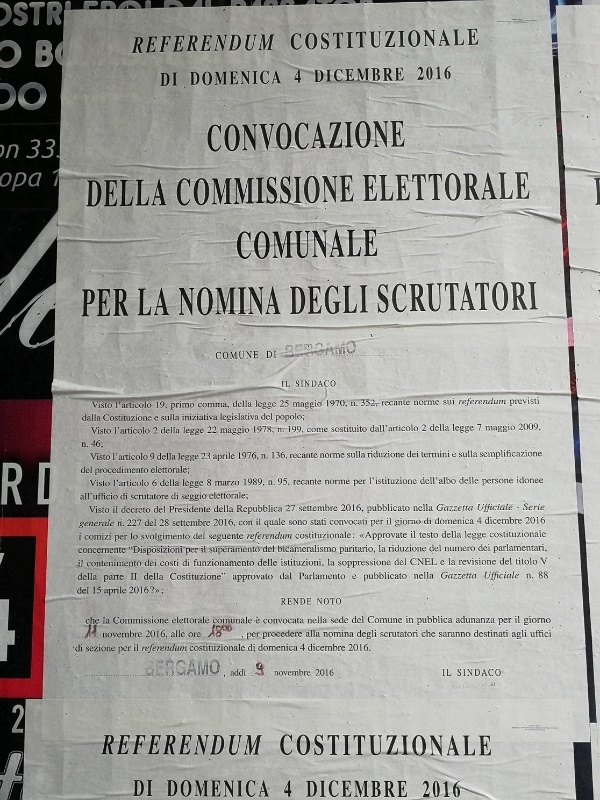text: (1, 1, 16, 116), (1, 595, 16, 672), (1, 752, 16, 800), (17, 1, 23, 116), (33, 78, 49, 117), (4, 461, 16, 511), (209, 117, 224, 156), (225, 117, 240, 156), (241, 117, 256, 156), (257, 117, 272, 156), (273, 117, 288, 156), (289, 117, 304, 156), (305, 117, 320, 156), (321, 117, 336, 156), (337, 117, 352, 156), (353, 117, 368, 156), (369, 117, 384, 156), (385, 117, 400, 156), (385, 278, 400, 317), (401, 278, 416, 317), (417, 278, 432, 317), (433, 278, 448, 317), (449, 278, 464, 317), (465, 278, 480, 317), (481, 278, 496, 317), (497, 278, 512, 317), (513, 278, 528, 317), (353, 283, 369, 319), (177, 172, 192, 210), (193, 172, 208, 210), (209, 172, 224, 210), (225, 172, 240, 210), (241, 172, 256, 210), (257, 172, 272, 210), (273, 172, 288, 210), (289, 172, 304, 210), (305, 172, 320, 210), (321, 172, 336, 210), (337, 172, 352, 210), (18, 78, 32, 117), (369, 170, 384, 206), (385, 170, 400, 206), (401, 170, 416, 206), (417, 170, 432, 206), (433, 170, 448, 206), (449, 170, 464, 206), (465, 170, 480, 206), (481, 170, 496, 206), (497, 170, 512, 206), (513, 170, 528, 206), (97, 286, 112, 322), (113, 286, 128, 322), (145, 284, 160, 320), (193, 284, 208, 320), (209, 284, 224, 320), (225, 284, 240, 320), (241, 284, 256, 320), (257, 284, 272, 320), (289, 283, 304, 319), (305, 283, 320, 319), (321, 283, 336, 319), (337, 283, 352, 319), (97, 177, 112, 211), (113, 177, 128, 211), (129, 177, 144, 211), (145, 177, 160, 211), (82, 286, 96, 322), (178, 284, 192, 320), (35, 37, 48, 74), (465, 25, 481, 54), (241, 229, 256, 259), (257, 229, 272, 259), (273, 229, 288, 259), (289, 229, 304, 259), (305, 229, 320, 259), (321, 229, 336, 259), (337, 229, 352, 259), (353, 229, 368, 259), (17, 2, 32, 32), (33, 2, 48, 32), (305, 25, 320, 54), (321, 25, 336, 54), (337, 25, 352, 54), (353, 25, 368, 54), (369, 25, 384, 54), (385, 25, 400, 54), (401, 25, 416, 54), (417, 25, 432, 54), (433, 25, 448, 54), (449, 25, 464, 54), (145, 31, 160, 58), (161, 31, 176, 58), (177, 31, 192, 58), (193, 31, 208, 58), (209, 31, 224, 58), (225, 31, 240, 58), (241, 31, 256, 58), (257, 31, 272, 58), (33, 137, 48, 164), (17, 461, 25, 511), (40, 460, 48, 510), (49, 460, 57, 510), (529, 278, 539, 317), (49, 2, 62, 32), (291, 25, 304, 54), (289, 734, 304, 759), (305, 734, 320, 759), (321, 734, 336, 759), (337, 734, 352, 759), (353, 734, 368, 759), (369, 734, 384, 759), (385, 734, 400, 759), (401, 734, 416, 759), (417, 734, 432, 759), (433, 734, 448, 759), (449, 734, 464, 759), (465, 734, 480, 759), (161, 284, 171, 320), (273, 284, 283, 320), (113, 733, 128, 756), (129, 733, 144, 756), (145, 733, 160, 756), (161, 733, 176, 756), (177, 733, 192, 756), (193, 733, 208, 756), (209, 733, 224, 756), (225, 733, 240, 756), (241, 733, 256, 756), (17, 752, 24, 800), (1, 170, 16, 192), (17, 170, 32, 192), (289, 339, 304, 360), (305, 339, 320, 360), (321, 339, 336, 360), (337, 339, 352, 360), (17, 595, 21, 672), (87, 177, 96, 211), (321, 66, 336, 86), (337, 66, 352, 86), (353, 66, 368, 86), (369, 66, 384, 86), (385, 66, 400, 86), (145, 658, 160, 678), (161, 658, 176, 678), (177, 658, 192, 678), (193, 658, 208, 678), (49, 37, 57, 74), (161, 71, 177, 89), (193, 69, 208, 88), (209, 69, 224, 88), (225, 69, 240, 88), (241, 69, 256, 88), (257, 69, 272, 88), (321, 780, 336, 799), (337, 780, 352, 799), (353, 780, 368, 799), (369, 780, 384, 799), (385, 780, 400, 799), (481, 734, 492, 759), (134, 31, 144, 58), (417, 65, 432, 83), (433, 65, 448, 83), (369, 229, 378, 259), (177, 780, 192, 798), (193, 780, 208, 798), (209, 780, 224, 798), (225, 780, 240, 798), (241, 780, 256, 798), (306, 780, 320, 799), (433, 781, 448, 798), (137, 284, 144, 320), (17, 704, 25, 735), (49, 137, 58, 164), (209, 658, 221, 678), (161, 177, 168, 211), (401, 117, 407, 156), (378, 278, 384, 317), (257, 780, 270, 798), (33, 170, 43, 192), (362, 170, 368, 206), (449, 781, 461, 798), (280, 734, 288, 759), (305, 528, 320, 541), (321, 528, 336, 541), (337, 528, 352, 541), (353, 542, 368, 555), (193, 641, 208, 654), (209, 641, 224, 654), (225, 641, 240, 654), (104, 733, 112, 756), (193, 491, 207, 504), (113, 584, 127, 597), (177, 399, 192, 411), (305, 399, 320, 411), (225, 412, 240, 424), (241, 412, 256, 424), (225, 425, 240, 437), (481, 449, 496, 461), (497, 449, 512, 461), (513, 449, 528, 461), (97, 465, 112, 477), (113, 465, 128, 477), (129, 465, 144, 477), (241, 505, 256, 517), (257, 505, 272, 517), (369, 504, 384, 516), (385, 504, 400, 516), (81, 518, 96, 530), (97, 518, 112, 530), (97, 557, 112, 569), (113, 557, 128, 569), (129, 585, 144, 597), (145, 585, 160, 597), (353, 557, 368, 569), (369, 557, 384, 569), (369, 571, 384, 583), (385, 571, 400, 583), (449, 570, 464, 582), (465, 530, 480, 542), (497, 543, 512, 555), (513, 543, 528, 555), (529, 543, 544, 555), (257, 629, 272, 641), (273, 629, 288, 641), (481, 556, 497, 567), (273, 69, 282, 88), (134, 780, 144, 797), (339, 542, 352, 555), (338, 557, 352, 569), (289, 629, 303, 641), (356, 629, 368, 643), (594, 178, 600, 206), (257, 399, 272, 410), (465, 397, 480, 408), (481, 397, 496, 408), (513, 396, 528, 407), (289, 412, 304, 423), (497, 423, 512, 434), (81, 491, 96, 502), (97, 491, 112, 502), (145, 533, 160, 544), (161, 533, 176, 544), (209, 533, 224, 544), (225, 533, 240, 544), (257, 531, 272, 542), (273, 531, 288, 542), (289, 558, 304, 569), (305, 558, 320, 569), (401, 517, 416, 528), (369, 531, 384, 542), (385, 531, 400, 542), (417, 557, 432, 568), (465, 556, 480, 567), (497, 571, 512, 582), (481, 503, 496, 514), (497, 503, 512, 514), (513, 503, 528, 514), (529, 503, 544, 514), (97, 642, 112, 653), (113, 629, 128, 640), (417, 616, 432, 627), (433, 616, 448, 627), (167, 780, 176, 798), (9, 142, 16, 165), (97, 400, 113, 410), (305, 477, 321, 487), (257, 573, 273, 583), (321, 545, 337, 555), (529, 449, 542, 461), (129, 557, 142, 569), (178, 452, 192, 463), (97, 478, 111, 489), (146, 629, 160, 640), (423, 781, 432, 798), (296, 66, 304, 85), (225, 351, 240, 361), (241, 351, 256, 361), (113, 413, 128, 423), (129, 413, 144, 423), (129, 426, 144, 436), (257, 425, 272, 435), (337, 424, 352, 434), (353, 424, 368, 434), (433, 423, 448, 433), (241, 451, 256, 461), (273, 451, 288, 461), (433, 476, 448, 486), (225, 492, 240, 502), (177, 504, 192, 514), (193, 504, 208, 514), (145, 572, 160, 582), (145, 559, 160, 569), (129, 546, 144, 556), (145, 546, 160, 556), (161, 546, 176, 556), (161, 559, 176, 569), (177, 518, 192, 528), (193, 518, 208, 528), (209, 546, 224, 556), (225, 546, 240, 556), (241, 546, 256, 556), (241, 573, 256, 583), (257, 558, 272, 568), (289, 545, 304, 555), (305, 545, 320, 555), (417, 571, 432, 581), (449, 503, 464, 513), (497, 529, 512, 539), (513, 529, 528, 539), (529, 529, 544, 539), (113, 615, 128, 625), (129, 615, 144, 625), (145, 615, 160, 625), (145, 644, 160, 654), (161, 644, 176, 654), (225, 616, 240, 626), (273, 643, 288, 653), (321, 643, 336, 653), (513, 630, 528, 640), (529, 616, 544, 626), (353, 643, 368, 653), (321, 380, 337, 389), (292, 399, 304, 411), (401, 477, 417, 486), (273, 518, 285, 530), (417, 504, 433, 513), (465, 570, 477, 582), (337, 614, 349, 626), (275, 412, 288, 423), (177, 533, 190, 544), (129, 629, 142, 640), (114, 426, 128, 436), (465, 476, 479, 486), (210, 492, 224, 502), (514, 615, 528, 625), (257, 733, 263, 756), (145, 780, 153, 797), (305, 380, 320, 389), (129, 401, 144, 410), (193, 412, 208, 421), (97, 426, 112, 435), (161, 426, 176, 435), (289, 425, 304, 434), (385, 424, 400, 433), (401, 424, 416, 433), (161, 452, 176, 461), (369, 450, 384, 459), (385, 450, 400, 459), (433, 450, 448, 459), (81, 466, 96, 475), (161, 466, 176, 475), (113, 479, 128, 488), (129, 479, 144, 488), (161, 479, 176, 488), (369, 477, 384, 486), (385, 477, 400, 486), (497, 478, 512, 487), (529, 476, 544, 485), (145, 493, 160, 502), (129, 506, 144, 515), (305, 504, 320, 513), (321, 504, 336, 513), (81, 573, 96, 582), (145, 519, 160, 528), (177, 573, 192, 582), (193, 573, 208, 582), (209, 573, 224, 582), (209, 559, 224, 568), (225, 559, 240, 568), (401, 545, 416, 554), (449, 517, 464, 526), (497, 516, 512, 525), (529, 516, 544, 525), (177, 616, 192, 625), (193, 616, 208, 625), (289, 668, 304, 677), (289, 597, 304, 606), (321, 597, 336, 606), (337, 629, 352, 638), (465, 669, 480, 678), (481, 669, 496, 678), (465, 682, 480, 691), (481, 682, 496, 691), (385, 629, 400, 638), (401, 629, 416, 638), (369, 616, 384, 625), (385, 616, 400, 625), (97, 1, 112, 10), (113, 1, 128, 10), (129, 1, 144, 10), (145, 1, 160, 10), (161, 1, 176, 10), (177, 1, 192, 10), (193, 1, 208, 10), (193, 426, 205, 437), (213, 451, 224, 463), (225, 451, 236, 463), (244, 477, 256, 488), (484, 571, 496, 582), (516, 556, 528, 567), (83, 413, 96, 423), (182, 491, 192, 504), (115, 534, 128, 544), (387, 517, 400, 527), (259, 643, 272, 653), (307, 615, 320, 625), (289, 617, 305, 625), (162, 413, 176, 422), (370, 424, 384, 433), (97, 453, 111, 462), (354, 479, 368, 488), (482, 478, 496, 487), (97, 532, 111, 541), (194, 532, 208, 541), (241, 559, 255, 568), (274, 668, 288, 677), (306, 630, 320, 639), (498, 618, 512, 627), (12, 704, 16, 735), (453, 424, 464, 435), (193, 478, 204, 489), (341, 503, 352, 514), (353, 503, 364, 514), (314, 66, 320, 86), (209, 402, 224, 410), (385, 399, 400, 407), (529, 423, 541, 433), (113, 453, 128, 461), (129, 453, 144, 461), (321, 452, 336, 460), (113, 506, 128, 514), (273, 505, 283, 517), (289, 519, 304, 527), (305, 573, 320, 581), (321, 573, 336, 581), (337, 518, 352, 526), (353, 518, 368, 526), (353, 574, 368, 582), (449, 546, 464, 554), (241, 616, 253, 626), (273, 617, 288, 625), (481, 630, 496, 638), (465, 616, 480, 624), (481, 616, 496, 624), (12, 2, 16, 32), (353, 450, 366, 459), (465, 450, 478, 459), (131, 493, 144, 502), (131, 572, 144, 581), (129, 519, 142, 528), (195, 559, 208, 568), (295, 528, 304, 541), (449, 531, 462, 540), (435, 517, 448, 526), (321, 668, 334, 677), (531, 630, 544, 639), (83, 1, 96, 10), (17, 142, 22, 165), (401, 780, 407, 799), (369, 629, 377, 643), (326, 398, 336, 409), (337, 398, 347, 409), (529, 396, 539, 407), (465, 424, 475, 435), (486, 423, 496, 434), (182, 478, 192, 489), (293, 477, 304, 487), (421, 476, 432, 486), (113, 574, 124, 584), (213, 518, 224, 528), (225, 518, 236, 528), (277, 545, 288, 555), (437, 503, 448, 513), (86, 642, 96, 653), (177, 644, 188, 654), (213, 616, 224, 626), (309, 643, 320, 653), (353, 615, 364, 625), (273, 31, 277, 58), (529, 170, 532, 206), (116, 401, 128, 410), (241, 400, 253, 409), (241, 425, 250, 437), (177, 466, 189, 475), (401, 504, 410, 516), (84, 532, 96, 541), (87, 557, 96, 569), (388, 545, 400, 554), (247, 629, 256, 641), (324, 629, 336, 638), (417, 399, 432, 406), (225, 481, 240, 488), (81, 547, 96, 554), (97, 547, 112, 554), (513, 725, 528, 732), (529, 725, 544, 732), (449, 632, 464, 639), (307, 426, 320, 434), (97, 506, 110, 514), (104, 584, 112, 597), (131, 533, 144, 541), (419, 532, 432, 540), (518, 423, 528, 433), (278, 477, 288, 487), (497, 397, 506, 408), (261, 412, 272, 421), (183, 426, 192, 437), (421, 423, 432, 432), (421, 450, 432, 459), (517, 476, 528, 485), (247, 531, 256, 542), (485, 516, 496, 525), (501, 557, 512, 566), (529, 556, 538, 567), (103, 629, 112, 640), (453, 682, 464, 691), (82, 441, 96, 448), (290, 452, 304, 459), (305, 452, 319, 459), (337, 479, 351, 486), (370, 520, 384, 527), (545, 725, 559, 732), (264, 518, 272, 530), (440, 570, 448, 582), (497, 630, 509, 638), (113, 547, 126, 554), (369, 542, 376, 555), (237, 229, 240, 259), (215, 351, 224, 361), (182, 412, 192, 421), (214, 505, 224, 514), (81, 586, 90, 596), (310, 518, 320, 527), (417, 545, 427, 554), (465, 503, 474, 513), (465, 517, 475, 526), (513, 516, 523, 525), (118, 646, 128, 655), (134, 644, 144, 653), (289, 643, 298, 653), (337, 643, 346, 653), (406, 616, 416, 625), (257, 477, 265, 488), (360, 531, 368, 542), (248, 642, 256, 653), (353, 339, 357, 360), (452, 452, 464, 459), (241, 520, 253, 527), (385, 557, 392, 569), (369, 399, 378, 408), (209, 412, 218, 421), (151, 453, 160, 462), (407, 450, 416, 459), (151, 466, 160, 475), (225, 505, 234, 514), (263, 545, 272, 554), (327, 558, 336, 567), (481, 544, 490, 553), (87, 616, 96, 625), (103, 616, 112, 625), (177, 630, 186, 639), (231, 668, 240, 677), (401, 66, 405, 86), (198, 402, 208, 410), (280, 399, 288, 409), (401, 399, 411, 407), (104, 413, 112, 423), (152, 478, 160, 488), (104, 574, 112, 584), (465, 546, 475, 554), (161, 615, 169, 625), (193, 452, 200, 463), (261, 453, 272, 460), (89, 478, 96, 489), (325, 479, 336, 486), (117, 521, 128, 528), (281, 571, 288, 582), (281, 558, 288, 569), (513, 571, 520, 582), (161, 629, 168, 640), (421, 631, 432, 638), (353, 172, 355, 210), (241, 1, 256, 6), (257, 1, 272, 6), (273, 1, 288, 6), (289, 1, 304, 6), (305, 1, 320, 6), (321, 1, 336, 6), (337, 1, 352, 6), (353, 1, 368, 6), (296, 380, 304, 389), (209, 425, 217, 434), (161, 493, 169, 502), (161, 519, 169, 528), (184, 559, 192, 568), (401, 571, 407, 583), (424, 517, 432, 526), (433, 544, 441, 553), (481, 530, 487, 542), (193, 631, 202, 639), (263, 617, 272, 625), (455, 616, 464, 624), (161, 401, 168, 411), (145, 413, 152, 423), (97, 439, 104, 449), (214, 481, 224, 488), (449, 476, 456, 486), (241, 492, 248, 502), (169, 504, 176, 514), (233, 573, 240, 583), (449, 557, 456, 567), (321, 615, 328, 625), (113, 491, 119, 502), (401, 531, 407, 542), (321, 426, 329, 434), (337, 452, 345, 460), (337, 573, 345, 581), (285, 339, 288, 360), (145, 401, 152, 410), (233, 400, 240, 409), (361, 399, 368, 408), (153, 426, 160, 435), (121, 492, 128, 501), (121, 506, 128, 515), (289, 504, 296, 513), (185, 548, 192, 557), (281, 597, 288, 606), (305, 597, 312, 606), (545, 630, 552, 639), (439, 632, 448, 639), (171, 399, 176, 411), (278, 427, 288, 433), (177, 546, 183, 556), (363, 571, 368, 583), (490, 529, 496, 539), (299, 642, 304, 654), (331, 614, 336, 626), (545, 616, 551, 626), (89, 506, 96, 514), (201, 546, 208, 554), (440, 560, 448, 567), (459, 397, 464, 408), (395, 517, 400, 528), (411, 557, 416, 568), (433, 557, 438, 568), (459, 556, 464, 567), (449, 65, 452, 83), (145, 506, 151, 515), (170, 573, 176, 582), (321, 518, 327, 527), (378, 545, 384, 554), (401, 558, 407, 567), (410, 531, 416, 540), (442, 531, 448, 540), (538, 571, 544, 580), (305, 668, 311, 677), (289, 780, 292, 798), (458, 669, 464, 678), (241, 641, 245, 654), (97, 413, 102, 423), (145, 426, 150, 436), (331, 424, 336, 434), (273, 558, 278, 568), (433, 399, 440, 406), (282, 380, 288, 388), (220, 412, 224, 424), (220, 425, 224, 437), (202, 452, 208, 460), (145, 465, 149, 477), (154, 506, 160, 514), (330, 518, 336, 526), (433, 532, 439, 540), (442, 669, 448, 677), (474, 630, 480, 638), (267, 351, 272, 360), (449, 397, 454, 406), (91, 426, 96, 435), (91, 453, 96, 462), (347, 450, 352, 459), (459, 450, 464, 459), (171, 492, 176, 501), (299, 504, 304, 513), (97, 587, 102, 596), (193, 548, 198, 557), (257, 518, 262, 527), (395, 558, 400, 567), (75, 644, 80, 653), (171, 630, 176, 639), (241, 668, 246, 677), (337, 597, 342, 606), (497, 669, 502, 678), (231, 1, 240, 6), (273, 399, 277, 410), (241, 533, 245, 544), (289, 571, 293, 582), (417, 517, 421, 528), (449, 616, 453, 627), (465, 632, 471, 639), (92, 400, 96, 410), (156, 401, 160, 411), (225, 402, 230, 410), (476, 423, 480, 433), (92, 439, 96, 449), (460, 476, 464, 486), (161, 506, 166, 514), (299, 573, 304, 581), (529, 573, 534, 581), (524, 616, 528, 626), (348, 643, 352, 653), (207, 117, 208, 156), (190, 69, 192, 88), (129, 286, 130, 322), (273, 351, 277, 360), (444, 397, 448, 406), (177, 426, 181, 435), (401, 450, 405, 459), (145, 479, 149, 488), (237, 505, 240, 517), (540, 557, 544, 566), (172, 616, 176, 625), (257, 616, 261, 625), (316, 668, 320, 677), (380, 629, 384, 638), (155, 415, 160, 422), (513, 423, 516, 434), (289, 531, 292, 542), (321, 558, 324, 569), (477, 503, 480, 514), (113, 642, 116, 653), (188, 631, 192, 639), (353, 401, 358, 407), (77, 586, 80, 596), (161, 572, 164, 582), (173, 518, 176, 528), (257, 546, 260, 556), (268, 480, 272, 487), (31, 137, 32, 164), (177, 413, 180, 422), (157, 452, 160, 461), (177, 479, 180, 488), (285, 504, 288, 513), (93, 587, 96, 596), (413, 504, 416, 513), (525, 516, 528, 525), (545, 557, 548, 566), (545, 571, 548, 580), (97, 616, 100, 625), (129, 646, 132, 655), (317, 597, 320, 606), (401, 616, 404, 625), (190, 641, 192, 654), (193, 399, 195, 411), (257, 412, 259, 424), (145, 453, 148, 461), (113, 518, 115, 530), (161, 585, 163, 597), (305, 519, 308, 527), (445, 546, 448, 554), (494, 543, 496, 555), (545, 543, 547, 555), (449, 669, 452, 677), (510, 396, 512, 407), (142, 533, 144, 544), (273, 480, 276, 487), (433, 631, 436, 638), (257, 351, 259, 361), (254, 425, 256, 435), (273, 425, 275, 435), (238, 451, 240, 461), (257, 451, 259, 461), (206, 478, 208, 488), (209, 478, 211, 488), (209, 504, 211, 514), (177, 559, 179, 569), (209, 518, 211, 528), (414, 571, 416, 581), (545, 529, 547, 539), (369, 643, 371, 653), (369, 1, 373, 6), (417, 424, 419, 433), (417, 450, 419, 459), (177, 492, 179, 501), (78, 573, 80, 582), (273, 545, 275, 554), (430, 544, 432, 553), (478, 544, 480, 553), (81, 644, 83, 653), (353, 629, 355, 638), (209, 1, 211, 10), (289, 380, 291, 388), (382, 399, 384, 407), (209, 452, 211, 460), (78, 560, 80, 568), (81, 560, 83, 568), (478, 517, 480, 525), (526, 573, 528, 581), (414, 399, 416, 406), (78, 547, 80, 554), (353, 528, 354, 541), (321, 399, 322, 411), (95, 465, 96, 477), (367, 504, 368, 516), (305, 642, 306, 654), (255, 399, 256, 410), (545, 503, 546, 514), (431, 423, 432, 433), (449, 423, 450, 433), (481, 423, 482, 433), (271, 451, 272, 461), (289, 477, 290, 487), (433, 571, 434, 581), (143, 644, 144, 654), (273, 412, 274, 421), (207, 425, 208, 434), (449, 450, 450, 459), (513, 478, 514, 487), (337, 504, 338, 513), (97, 573, 98, 582), (127, 519, 128, 528), (225, 573, 226, 582), (385, 545, 386, 554), (545, 516, 546, 525), (209, 616, 210, 625), (417, 629, 418, 638), (79, 533, 80, 541), (81, 533, 82, 541), (481, 517, 482, 525), (239, 520, 240, 527), (511, 725, 512, 732), (351, 401, 352, 407)
